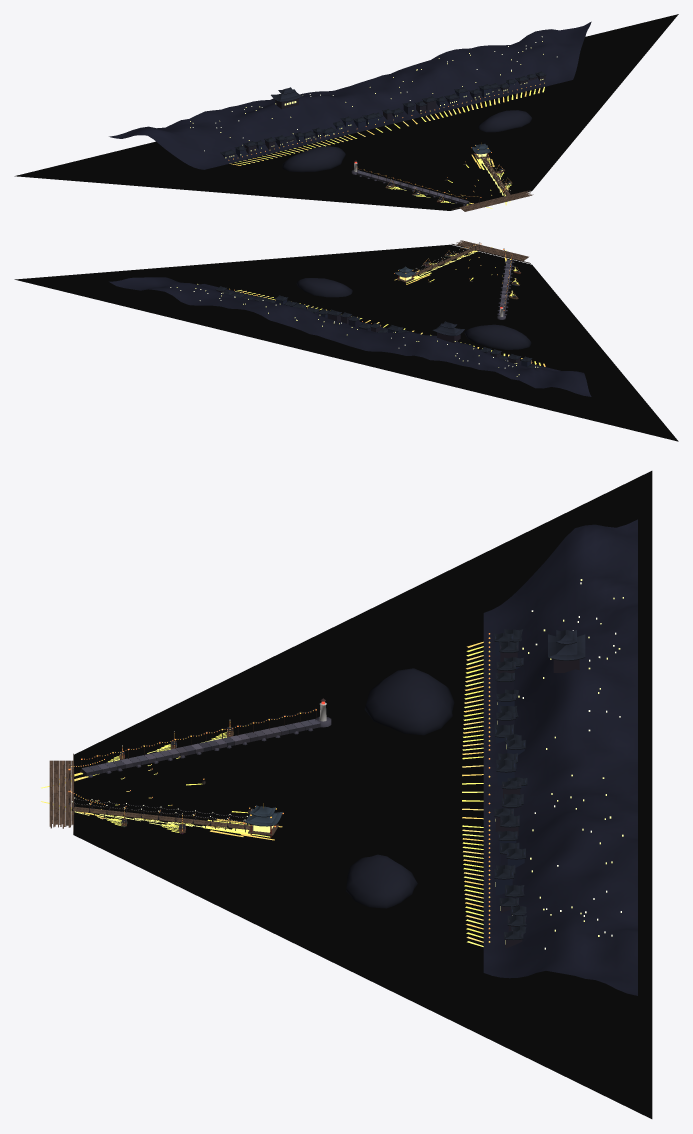
The model's file is backdrop_0.glb.
3 renders of one model, top to bottom at view 1: azimuth 30°, elevation 25°; view 2: azimuth 150°, elevation 25°; view 3: azimuth 270°, elevation 25°, orthographic. The views are drawn at different scales.
Visible parts, largest first — view 1: mid_sea, far_hill, far_town, far_islands, mid_reflections, lm_breakwater, fg_deck, far_town_lights, lm_pier; view 2: mid_sea, far_hill, far_town, far_islands, mid_reflections, fg_deck, lm_breakwater, lm_pier; view 3: mid_sea, far_hill, far_town, far_islands, mid_reflections, lm_breakwater, fg_deck, lm_pier.
Boxes of the visible parts, box(x1,y1,x2,y2) form: mid_sea: box(14, 14, 678, 210); far_hill: box(109, 21, 591, 169); far_town: box(220, 71, 546, 158); far_islands: box(282, 110, 532, 172); mid_reflections: box(229, 87, 544, 208); lm_breakwater: box(351, 160, 469, 205); fg_deck: box(451, 190, 533, 211); far_town_lights: box(190, 36, 557, 160); lm_pier: box(473, 153, 510, 195); mid_sea: box(14, 244, 678, 441); far_hill: box(109, 277, 591, 396); far_town: box(215, 286, 541, 368); far_islands: box(296, 278, 531, 349); mid_reflections: box(235, 247, 545, 366); fg_deck: box(451, 240, 530, 263); lm_breakwater: box(497, 256, 514, 319); lm_pier: box(397, 243, 475, 282); mid_sea: box(73, 471, 652, 1118); far_hill: box(483, 519, 637, 995); far_town: box(494, 629, 585, 948); far_islands: box(346, 668, 454, 908); mid_reflections: box(41, 641, 483, 946); lm_breakwater: box(80, 698, 331, 777); fg_deck: box(49, 753, 74, 832); lm_pier: box(71, 797, 279, 835).
Size of the model in its own units: 538 by 33.36 by 214.
